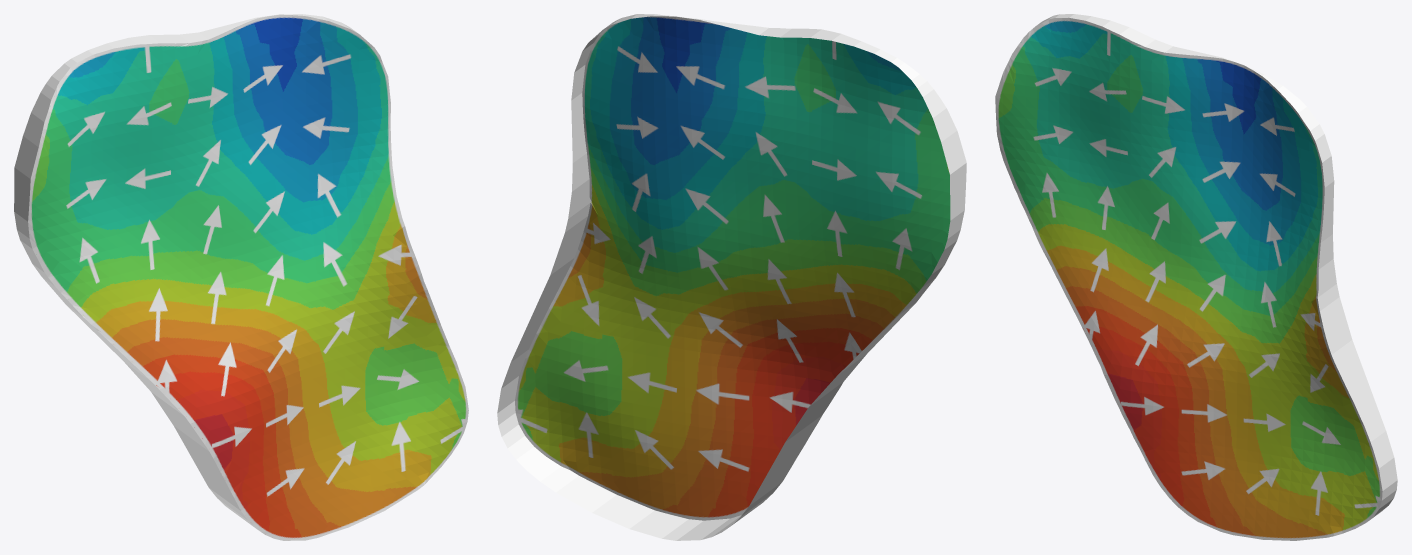
3 renders of one model, left to right at view 1: azimuth 30°, elevation 25°; view 2: azimuth 150°, elevation 25°; view 3: azimuth 330°, elevation 25°, orthographic. The views are drawn at different scales.
Bounding box in the file's own units: 3.55 × 4.04 × 0.5064.
2 materials, 1 textured.
